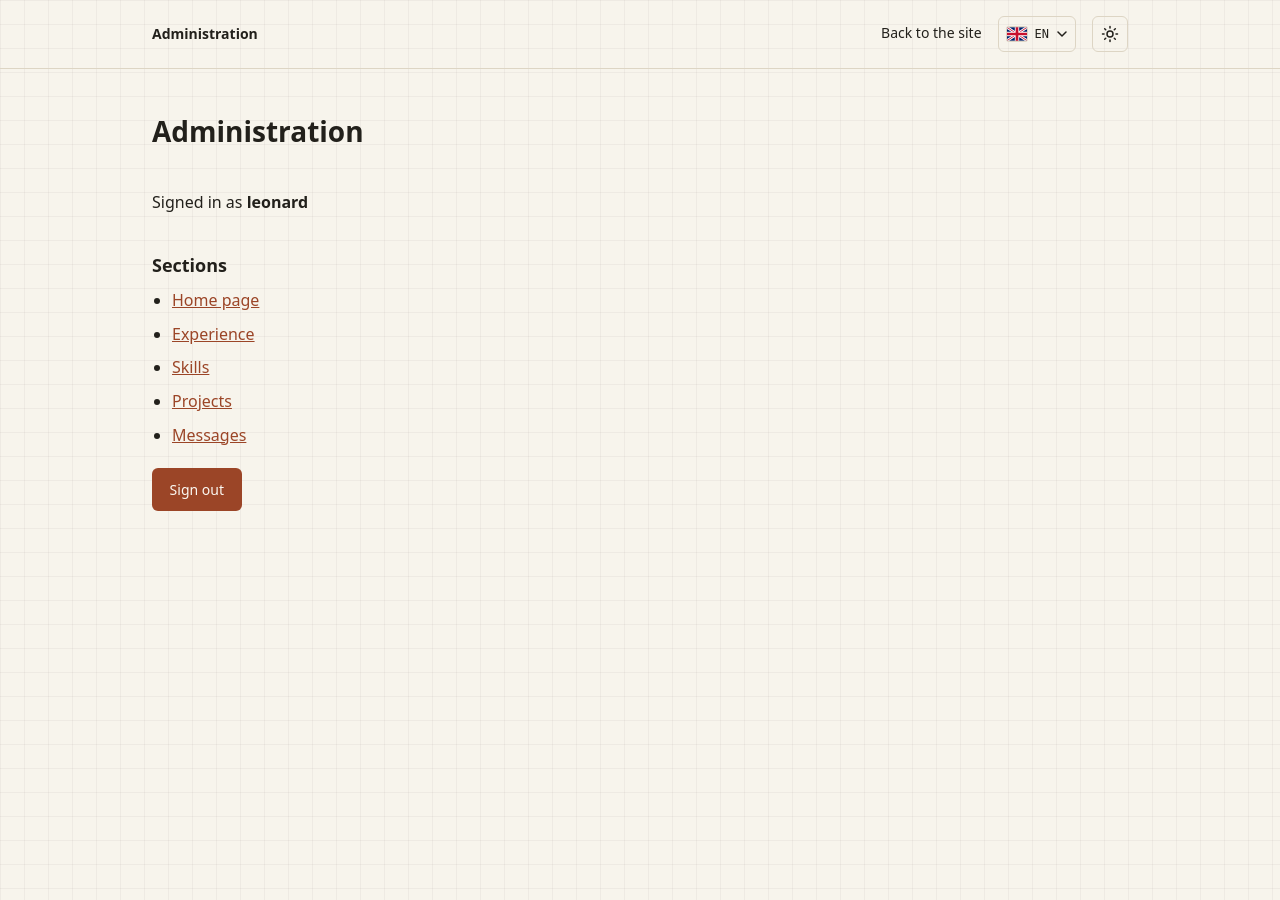
Scenario: admin area › says so when signing out fails, instead of leaving
This screenshot has width=1280, height=900.
Click the button "Sign out" at {"x": 197, "y": 490}, box [152,468,242,511]
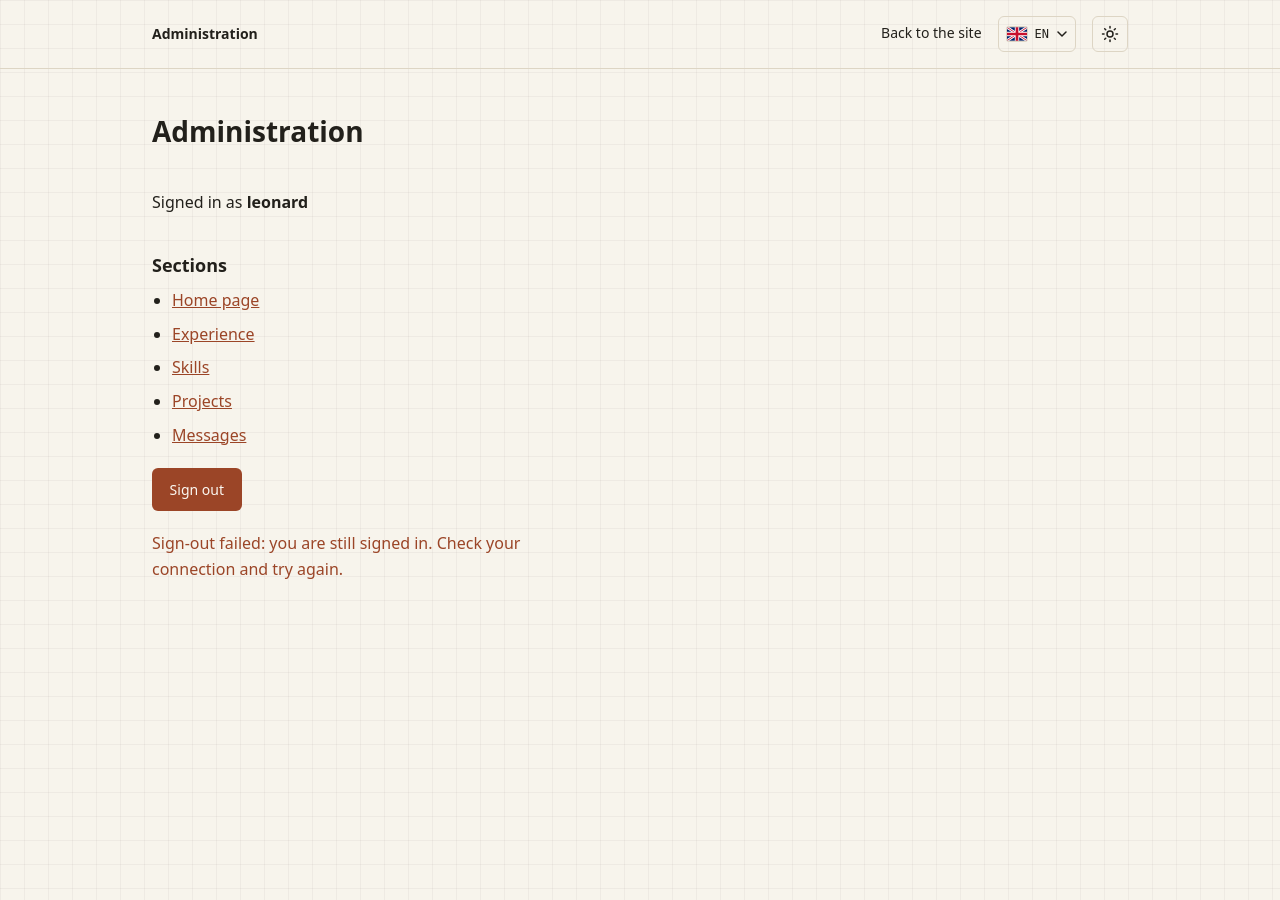
expect the text "leonard" is shown: met, box [247,191,308,213]
expect the message shows "you are still signed in": met, box [152,532,520,580]
